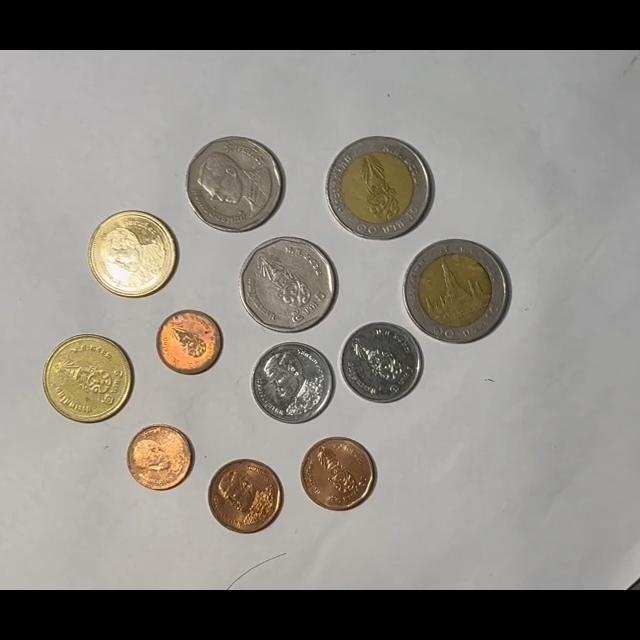1-baht: (250, 342, 333, 425), (340, 322, 423, 404)
10-baht: (403, 238, 510, 343), (325, 136, 432, 241)
2-baht: (43, 333, 133, 424), (88, 211, 177, 300)
25-satang: (126, 424, 195, 492), (157, 309, 222, 375)
5-baht: (185, 136, 285, 233), (238, 236, 337, 333)
50-satang: (207, 459, 283, 534), (300, 437, 375, 512)
